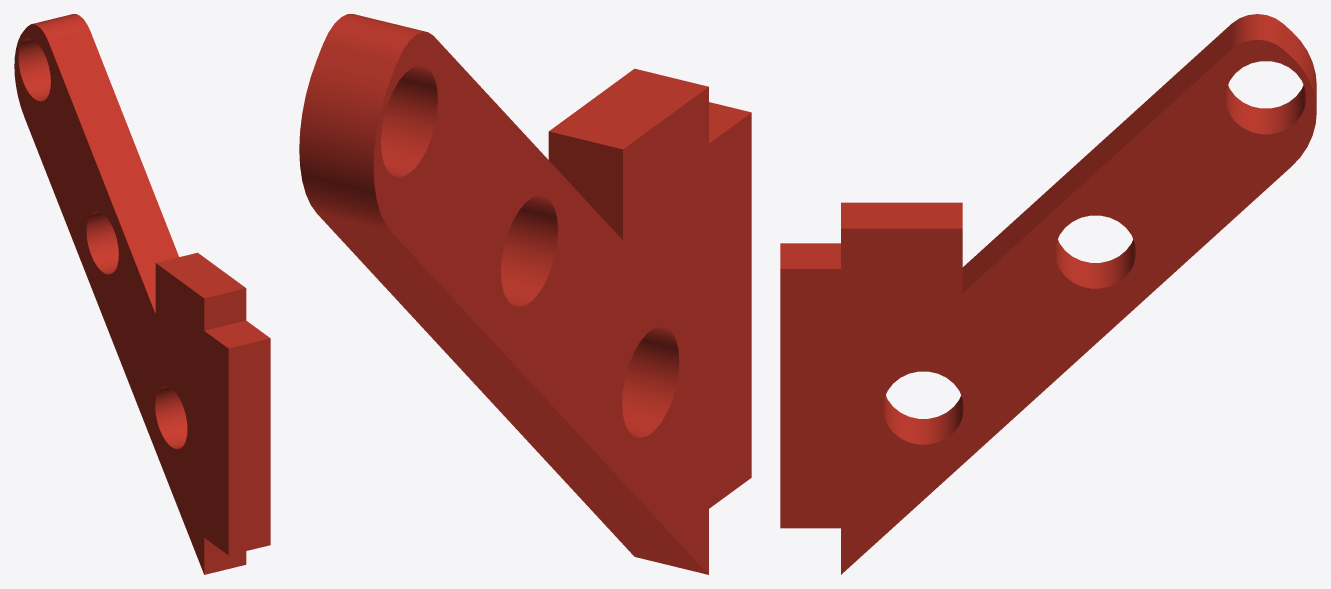
File: kaki tengah.obj
The picture shows the model from 3 angles, left to right: view 1: azimuth 30°, elevation 25°; view 2: azimuth 150°, elevation 25°; view 3: azimuth 270°, elevation 25°; orthographic projection. The views are drawn at different scales.
Parts seen in each view (by area): view 1: Solid1; view 2: Solid1; view 3: Solid1.
Boxes of the visible parts, bbox=[...] form: Solid1: bbox=[14, 14, 270, 574]; Solid1: bbox=[299, 14, 751, 574]; Solid1: bbox=[780, 14, 1316, 574].
Bounding box in the file's own units: 0.009 × 0.0874 × 0.0794.
